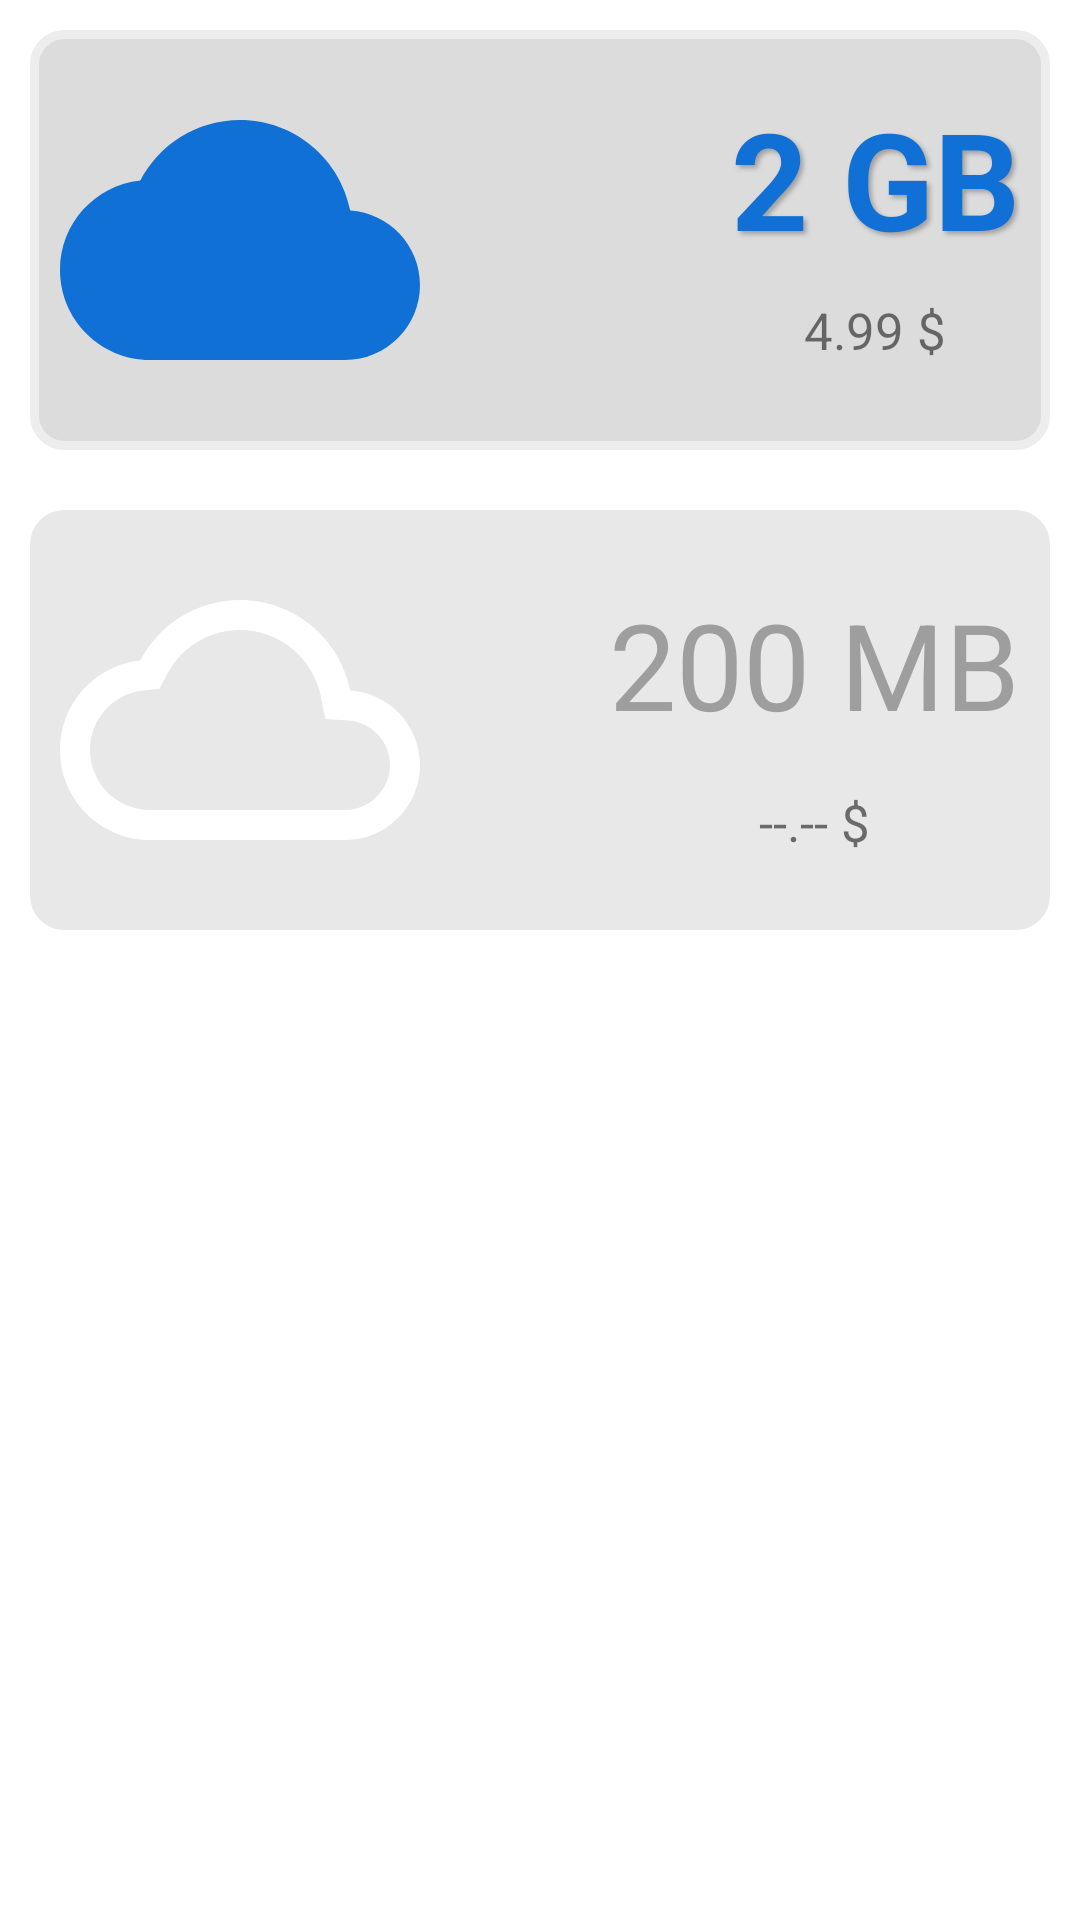

Named icons in this screenshot (1080×1920) and their bounding boxes, {"x1": x1, "y1": y1, "x2": x2, "y2": y2}:
cloud: {"x1": 60, "y1": 120, "x2": 420, "y2": 360}
